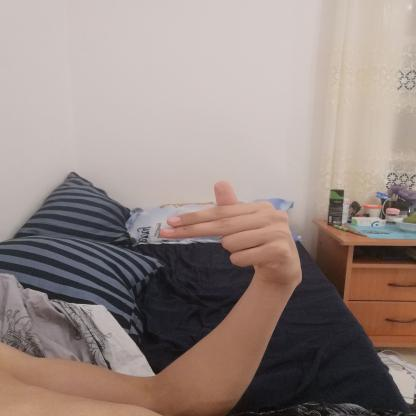GHAYN: (152, 175, 312, 292)
